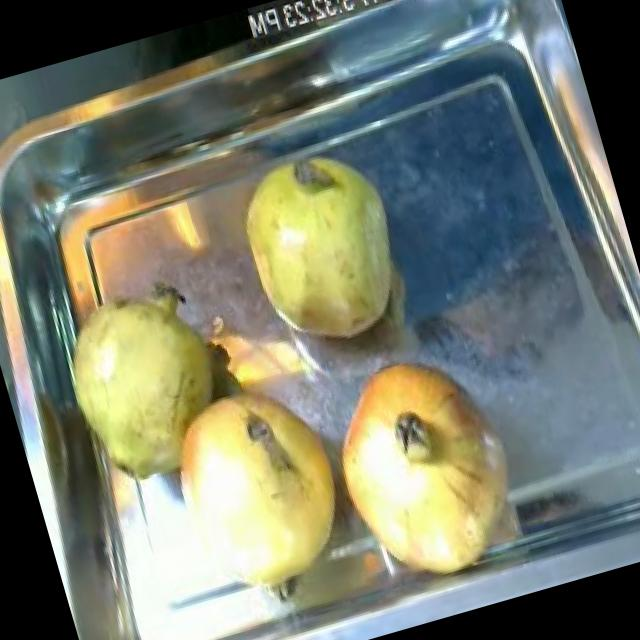fruit: (299, 318, 549, 613), (133, 351, 378, 640), (208, 125, 432, 381)
